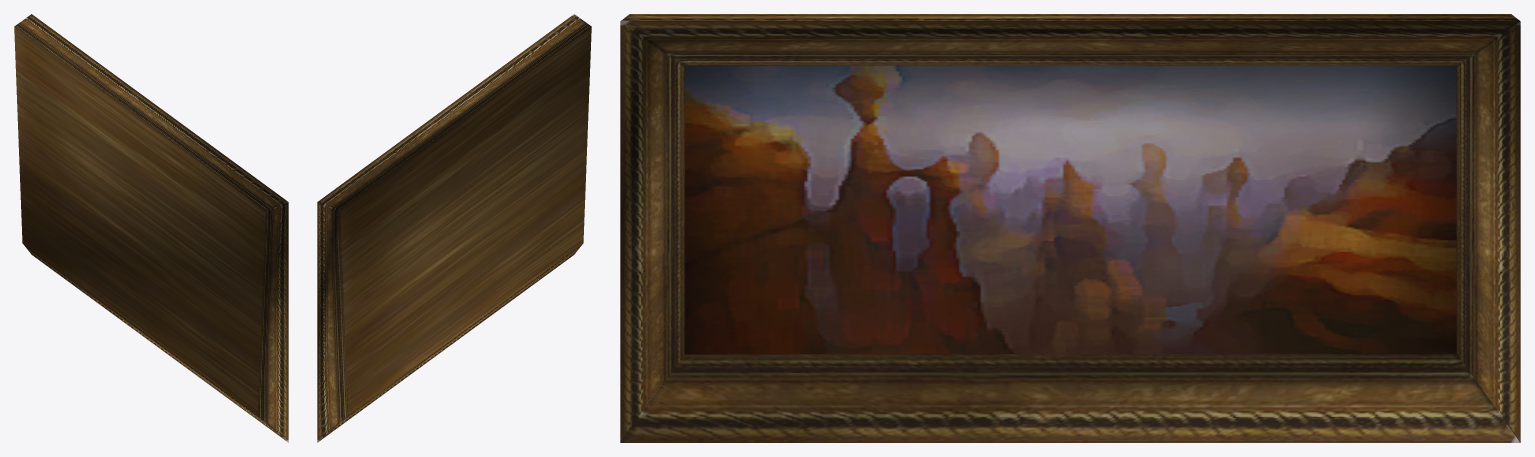
File: stormwindpainting01.obj
3 renders of one model, left to right at view 1: azimuth 30°, elevation 25°; view 2: azimuth 150°, elevation 25°; view 3: azimuth 270°, elevation 25°, orthographic. The views are drawn at different scales.
Visible parts, largest first — view 1: stormwindpainting01.m2; view 2: stormwindpainting01.m2; view 3: stormwindpainting01.m2.
Part boxes in pixels (box(x1,y1,x2,y2)): stormwindpainting01.m2: box(14, 14, 288, 442); stormwindpainting01.m2: box(317, 14, 591, 442); stormwindpainting01.m2: box(620, 14, 1520, 442).
Bounding box in the file's own units: 0.2139 × 2.44 × 4.73.
1 material, 1 textured.
